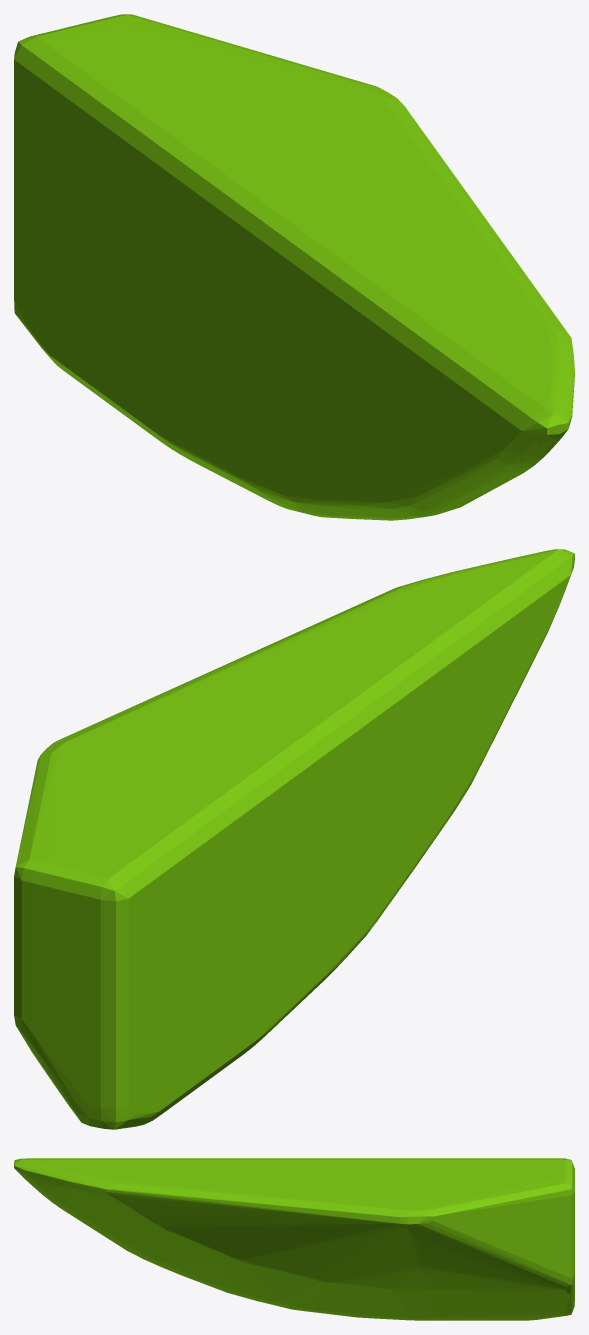
File: left_shoulder_roll_link_part_4.obj
The picture shows the model from 3 angles, top to bottom: view 1: azimuth 30°, elevation 25°; view 2: azimuth 150°, elevation 25°; view 3: azimuth 270°, elevation 25°; orthographic projection. The views are drawn at different scales.
Bounding box in the file's own units: 0.00874 × 0.0107 × 0.0339.
